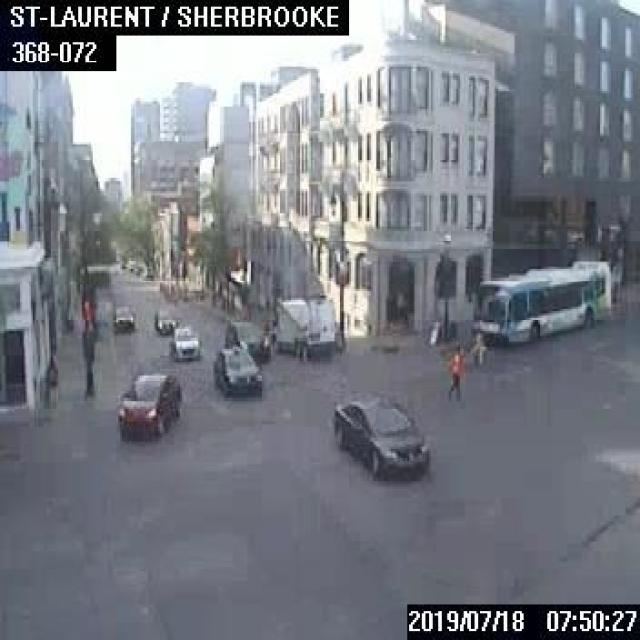bus: (473, 258, 610, 344)
pedestrian: (444, 342, 464, 401), (44, 354, 56, 404), (471, 327, 484, 369)
vehicle: (333, 390, 427, 478), (115, 369, 178, 438), (268, 296, 334, 358), (212, 344, 261, 396), (224, 318, 268, 361), (170, 326, 199, 357), (111, 305, 134, 330), (154, 308, 176, 334)
